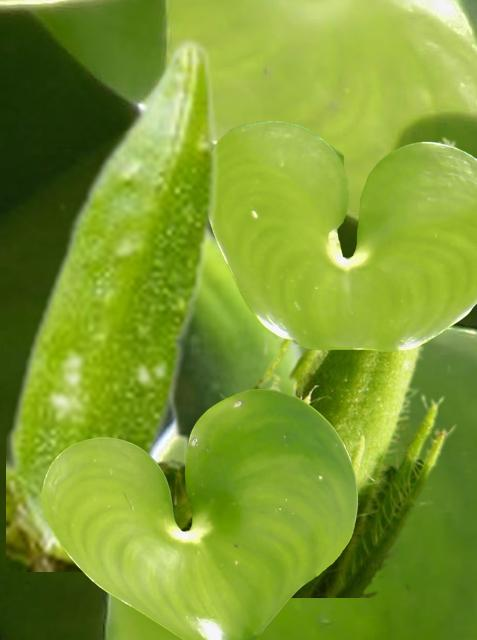okra: (158, 135, 466, 596), (6, 35, 219, 570), (166, 236, 302, 460)
